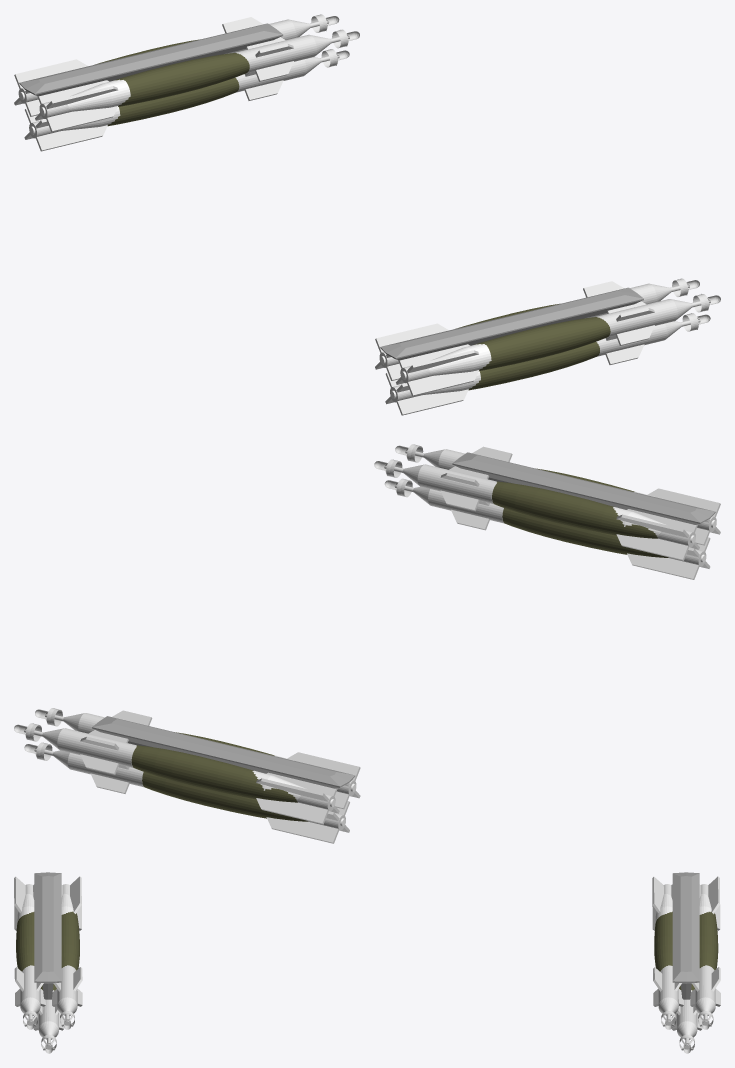
Rendered from f16gbu12141.glb.
3 renders of one model, top to bottom at view 1: azimuth 30°, elevation 25°; view 2: azimuth 150°, elevation 25°; view 3: azimuth 270°, elevation 25°, orthographic. The views are drawn at different scales.
Parts seen in each view (by area): view 1: 円柱.005, 円柱.027, 円柱.007, 円柱.002, 立方体.002, 立方体.001, 円柱.001, 円柱.006; view 2: 円柱.006, 円柱.001, 円柱.002, 円柱.007, 立方体.001, 立方体.002, 円柱.005, 円柱.027; view 3: 立方体.002, 立方体.001, 円柱.006, 円柱.001, 円柱.027, 円柱.005, 円柱.007, 円柱.002.
Boxes of the visible parts, x1,y1,x2,y2 form: 円柱.005: (35,29,359,132); 円柱.027: (396,294,720,396); 円柱.007: (24,49,349,151); 円柱.002: (385,313,710,415); 立方体.002: (380,287,643,360); 立方体.001: (19,23,283,96); 円柱.001: (375,278,699,380); 円柱.006: (14,14,339,116); 円柱.006: (14,723,339,824); 円柱.001: (374,459,699,560); 円柱.002: (384,478,710,579); 円柱.007: (24,742,349,843); 立方体.001: (92,716,355,788); 立方体.002: (452,452,715,524); 円柱.005: (35,708,360,809); 円柱.027: (395,444,720,545); 立方体.002: (34,872,61,999); 立方体.001: (672,872,699,999); 円柱.006: (690,876,720,1029); 円柱.001: (52,876,82,1029); 円柱.027: (14,876,45,1029); 円柱.005: (652,877,683,1029); 円柱.007: (671,984,702,1053); 円柱.002: (33,984,64,1053).
Bounding box in the file's own units: 3.76 × 0.699 × 8.01.
Materials: 4 (1 with a texture image).
